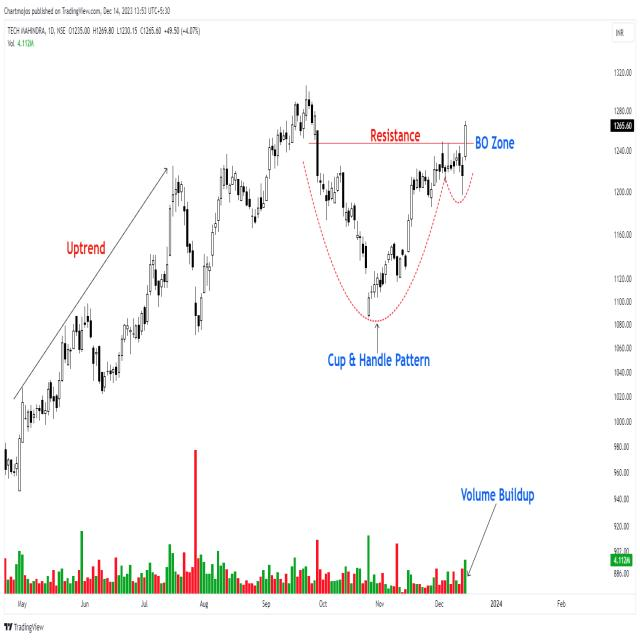Cup-and-handle: (306, 143, 472, 323)
